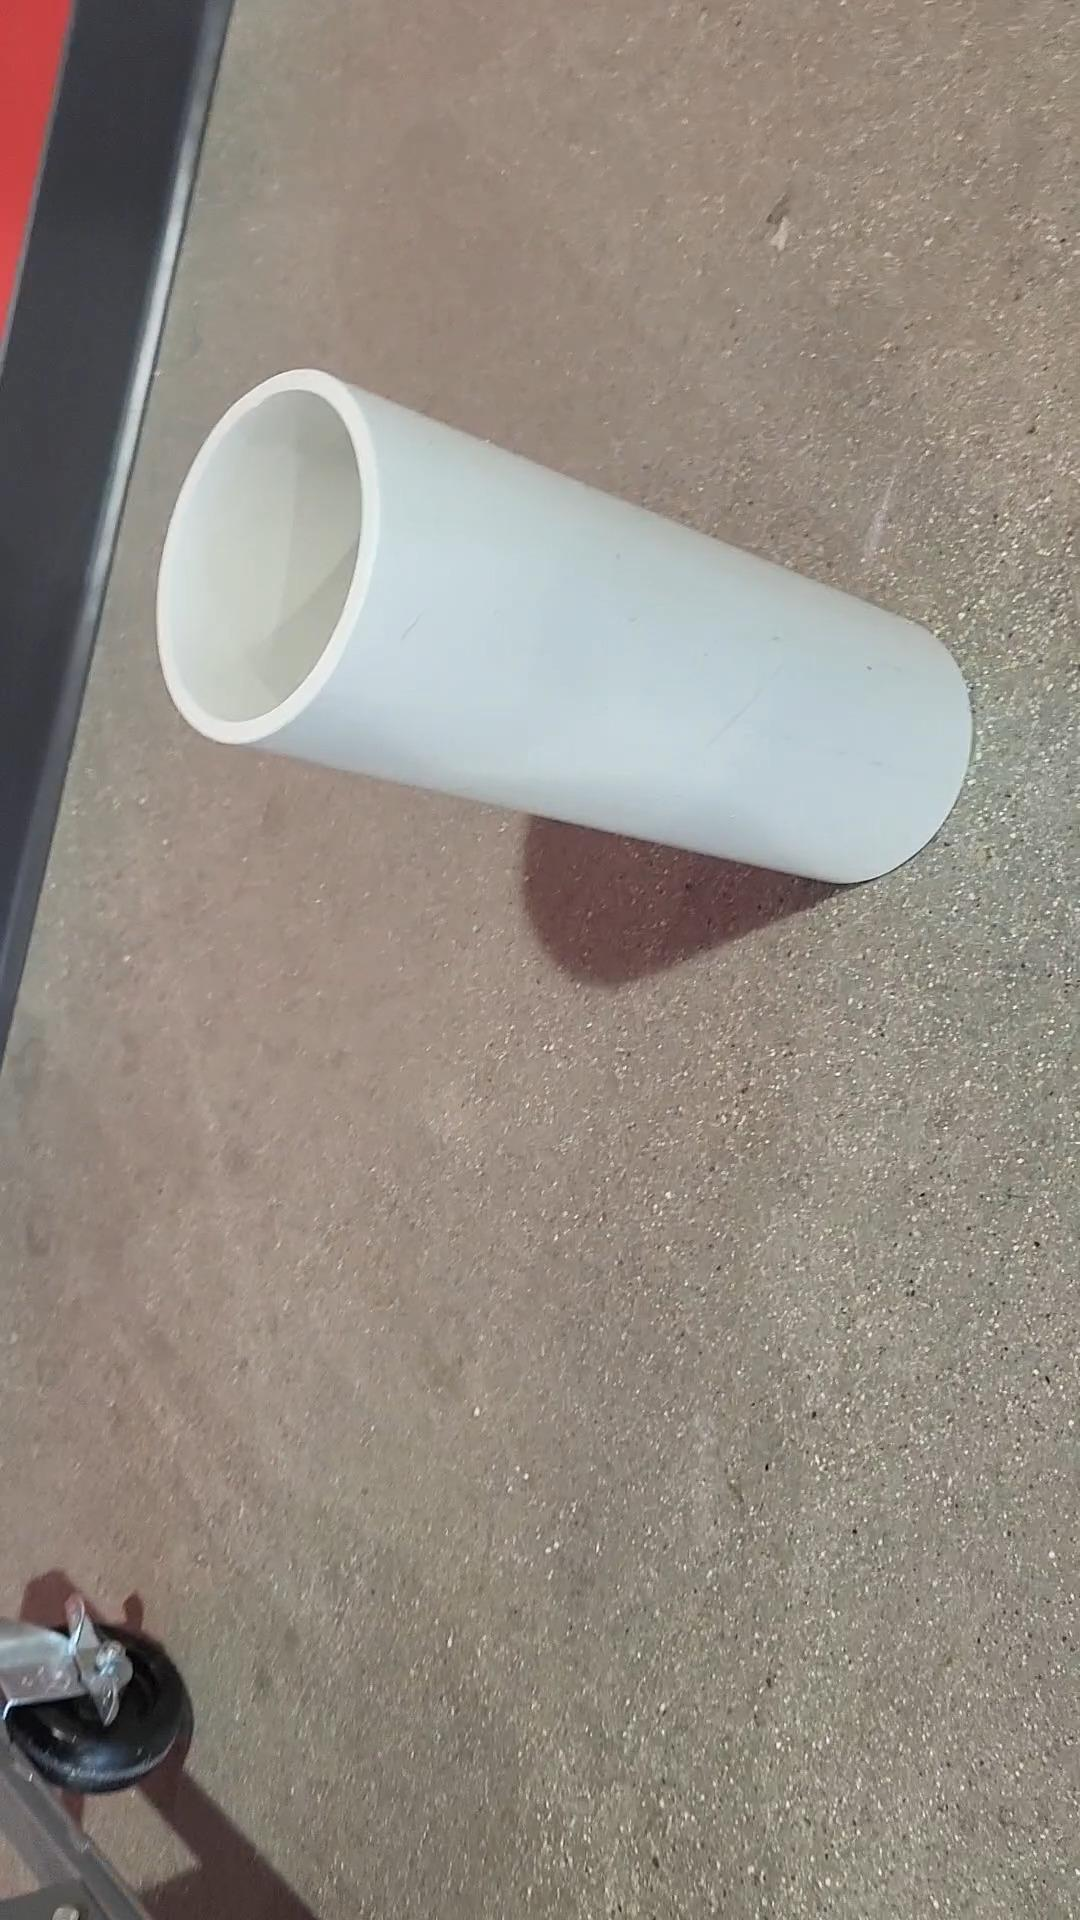coral: (157, 372, 972, 887)
